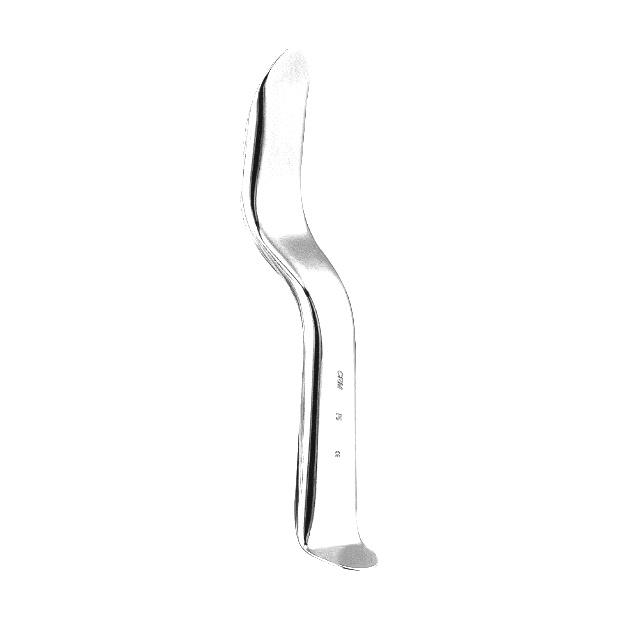separador: (237, 45, 381, 575)
